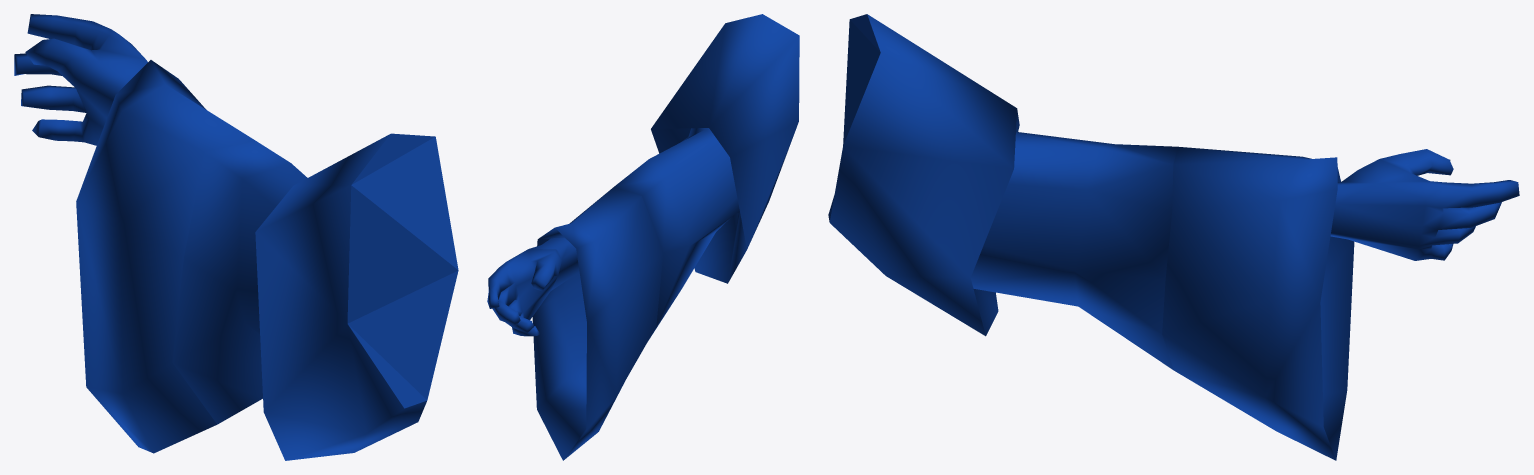
The model's file is rightArm.obj.
3 views of the same model, side by side, from view 1: azimuth 30°, elevation 25°; view 2: azimuth 150°, elevation 25°; view 3: azimuth 270°, elevation 25° (orthographic). The views are drawn at different scales.
Parts seen in each view (by area): view 1: Wizard_Plane.002; view 2: Wizard_Plane.002; view 3: Wizard_Plane.002.
Boxes of the visible parts, x1,y1,x2,y2 form: Wizard_Plane.002: (14, 14, 458, 460); Wizard_Plane.002: (487, 14, 799, 460); Wizard_Plane.002: (828, 14, 1519, 460).
Size of the model in its own units: 0.1769 by 0.5978 by 0.8675.
